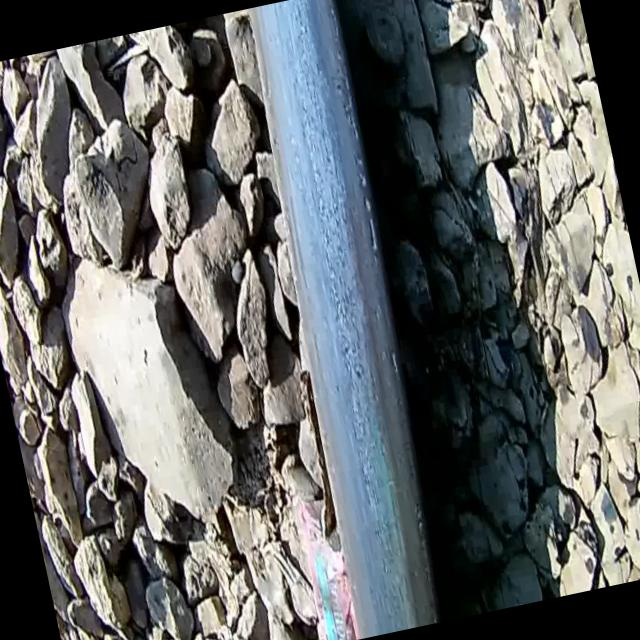Squats: (235, 0, 326, 37)
